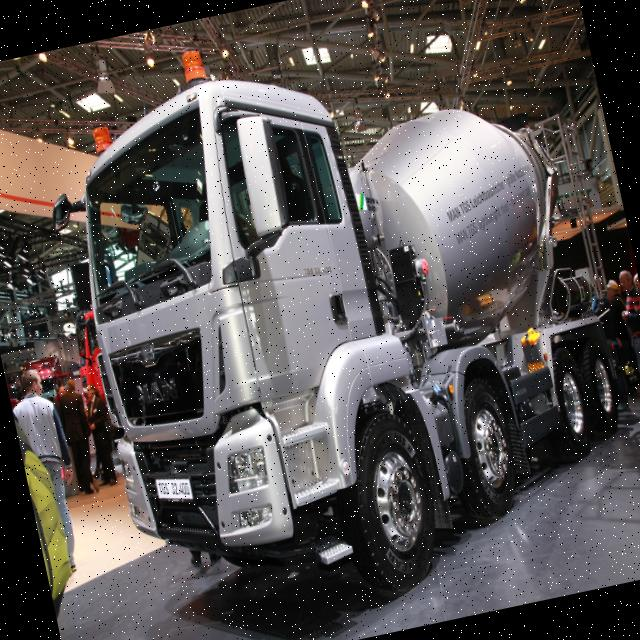Mixer Truck: (45, 8, 640, 640)
